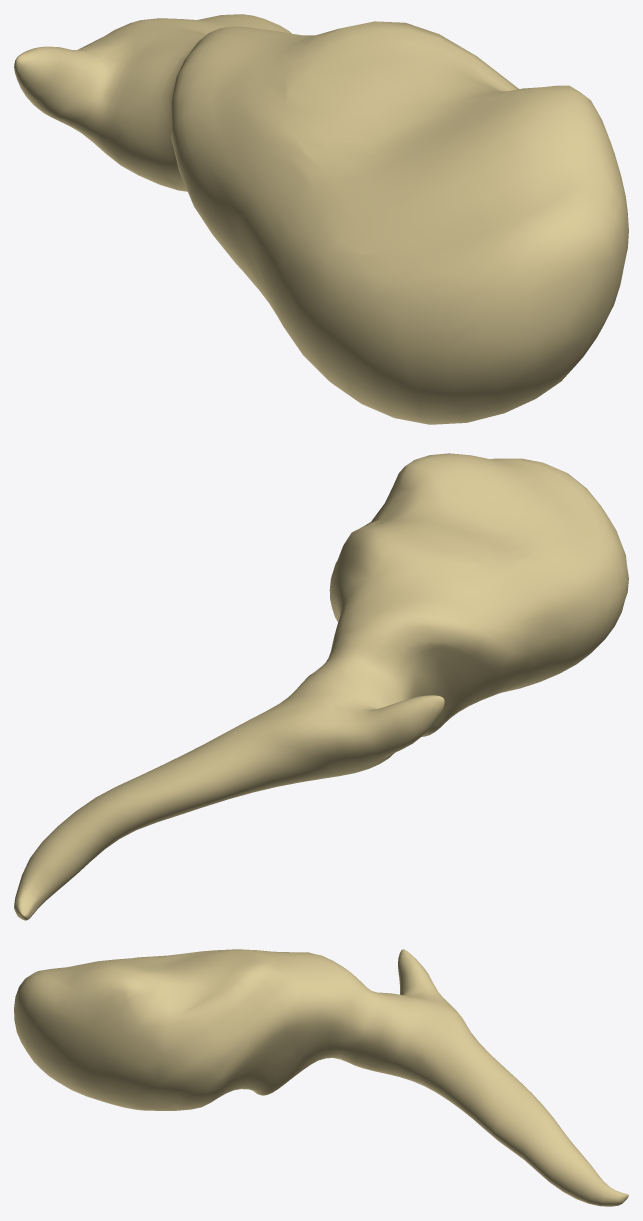
3 views of the same model, one above another, from view 1: azimuth 30°, elevation 25°; view 2: azimuth 150°, elevation 25°; view 3: azimuth 270°, elevation 25° (orthographic). The views are drawn at different scales.
Parts seen in each view (by area): view 1: 右侧锤骨; view 2: 右侧锤骨; view 3: 右侧锤骨.
Part boxes in pixels (x1,y1,x2,y2): 右侧锤骨: (14, 14, 628, 424); 右侧锤骨: (14, 453, 628, 920); 右侧锤骨: (14, 949, 628, 1206).
Size of the model in its own units: 0.00536 by 0.00424 by 0.0121.
